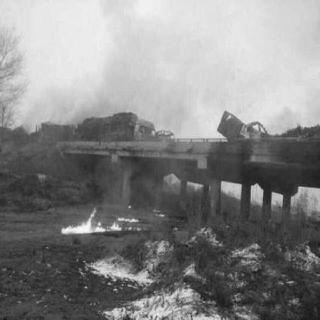Fire: (56, 192, 186, 242)
